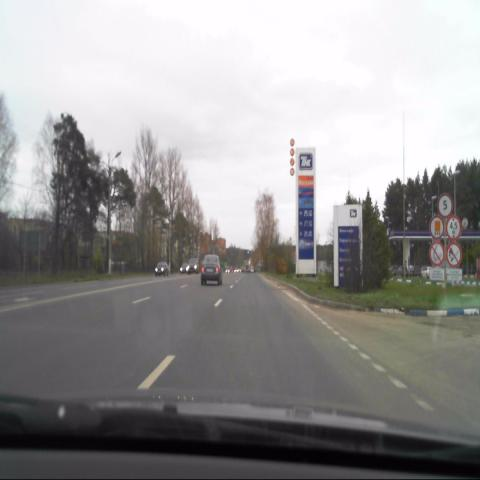3_32: (428, 215, 444, 240)
